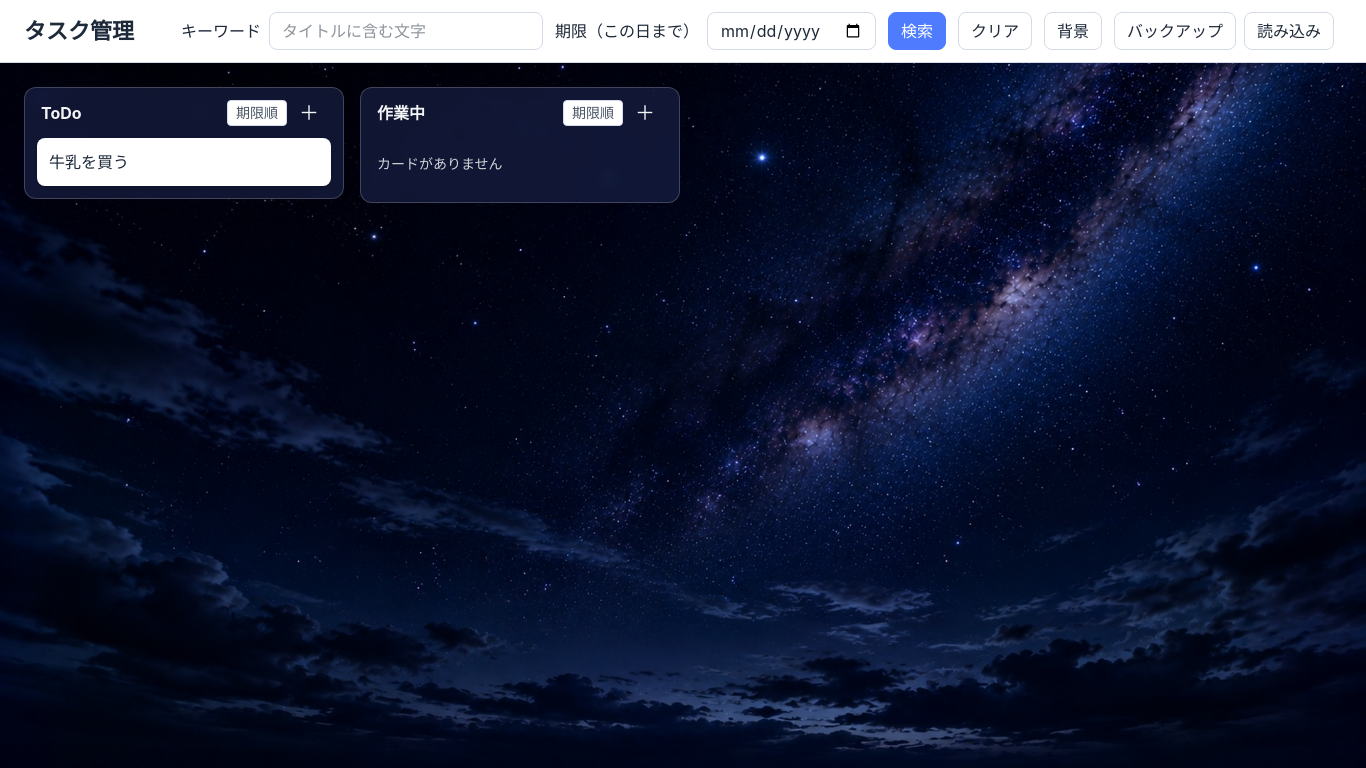
Test case: 「背景」を押すと、見本つきの5つの選択肢が出て、いまの背景が選ばれている
Expected: the element "ToDo" is shown, [24,87,344,199]
Click the button "背景".
click(1073, 31)  # box [1044,12,1102,50]
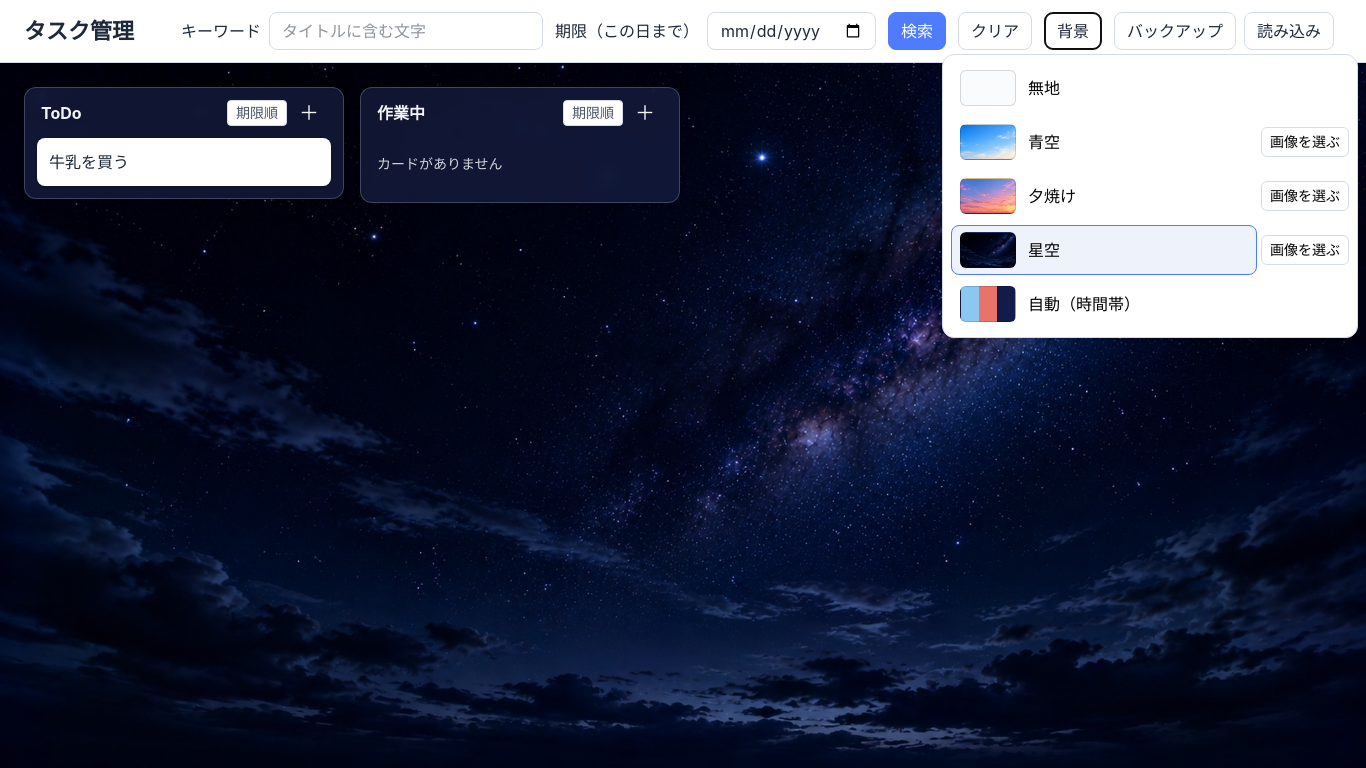
Expected: the radio buttons read "無地", "青空", "夕焼け", "星空", "自動（時間帯）", in this order, [951,63,1349,113]; [951,117,1257,167]; [951,171,1257,221]; [951,225,1257,275]; [951,279,1349,329]
Expected: the radio button labelled "星空" is checked, [951,225,1257,275]
Expected: the radio button labelled "青空" is not checked, [951,117,1257,167]
